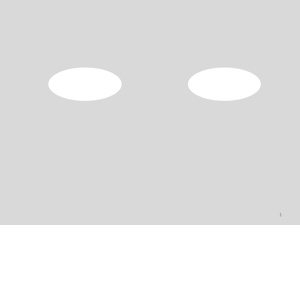round: (44, 63, 126, 103), (185, 65, 264, 102)
